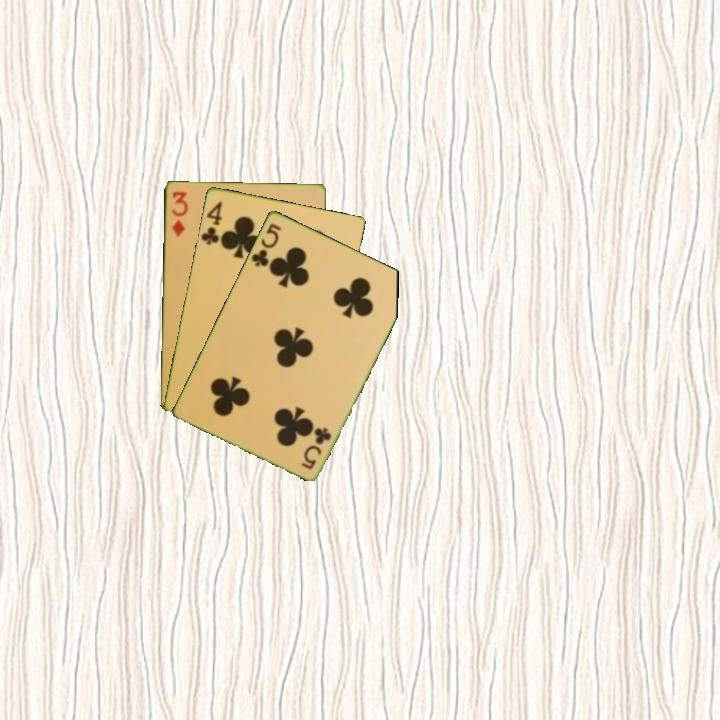3d: (168, 188, 190, 239)
4c: (198, 197, 225, 247)
5c: (247, 219, 284, 269), (297, 423, 334, 472)
